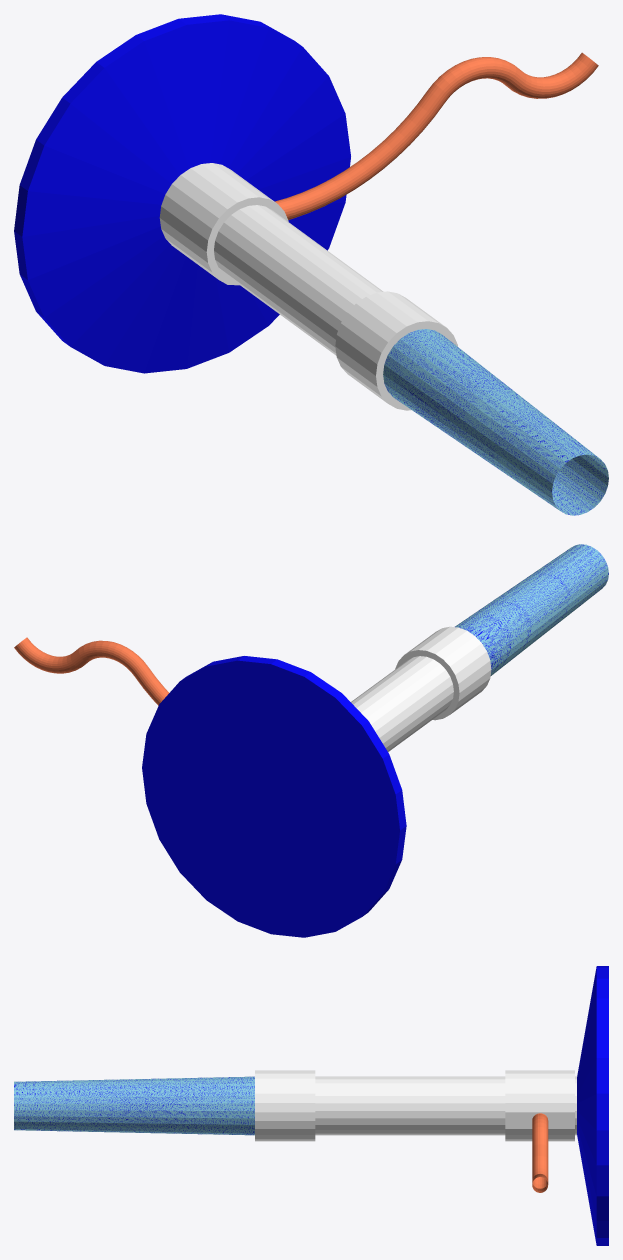
The picture shows the model from 3 angles, top to bottom: view 1: azimuth 30°, elevation 25°; view 2: azimuth 150°, elevation 25°; view 3: azimuth 270°, elevation 25°; orthographic projection. The views are drawn at different scales.
Visible parts, largest first — view 1: bunsen burner; view 2: bunsen burner; view 3: bunsen burner.
Part boxes in pixels (bbox=[...]): bunsen burner: bbox=[14, 14, 608, 515]; bunsen burner: bbox=[14, 544, 608, 937]; bunsen burner: bbox=[14, 966, 608, 1245].
Size of the model in its own units: 221 by 135 by 287.
